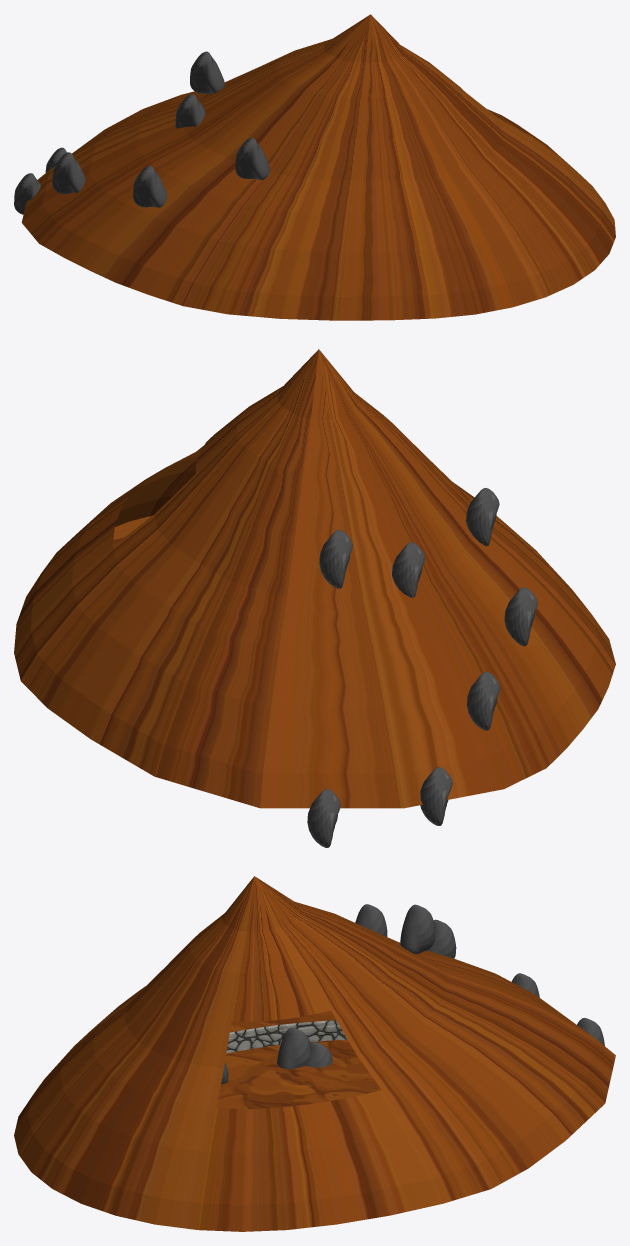
Rendered from Escenario (5).fbx.
3 views of the same model, one above another, from view 1: azimuth 30°, elevation 25°; view 2: azimuth 150°, elevation 25°; view 3: azimuth 270°, elevation 25° (orthographic). The views are drawn at different scales.
Visible parts, largest first — view 1: Circle.004; view 2: Circle.004; view 3: Circle.004.
Part boxes in pixels (x1,y1,x2,y2): Circle.004: (14,14,615,320); Circle.004: (14,349,615,847); Circle.004: (14,876,615,1231).
Size of the model in its own units: 6155 by 3115 by 6225.
34 materials, 2 textured.
